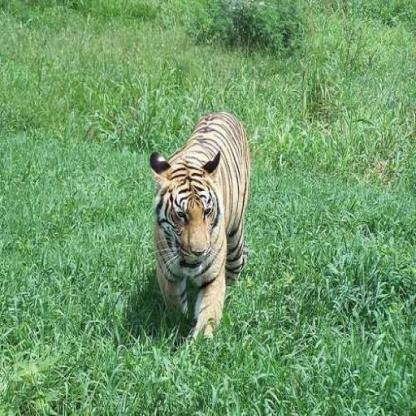Tiger: (137, 98, 271, 347)
